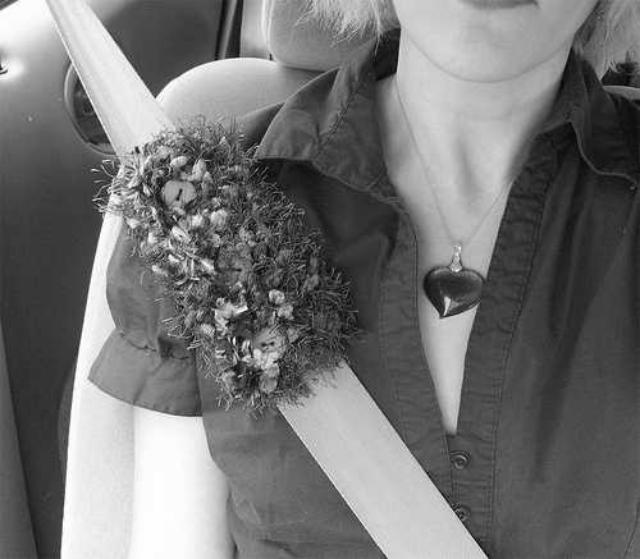Seatbelt: (37, 0, 500, 559)
